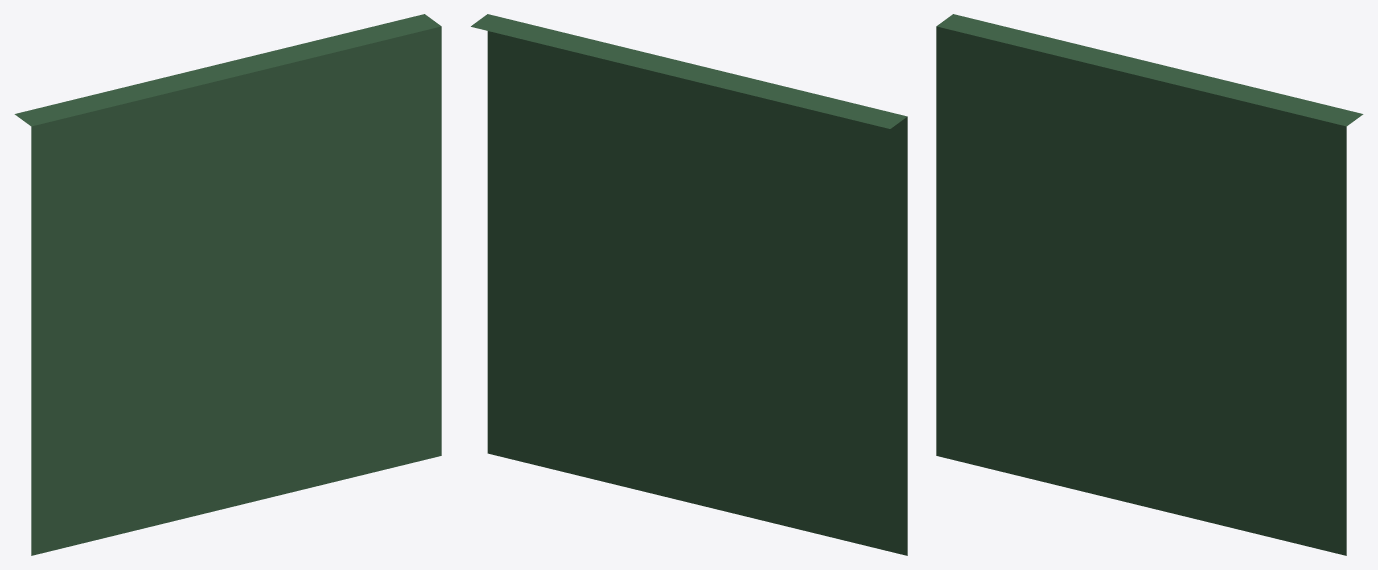
Rendered from M_Wall350Green30.fbx.
3 renders of one model, left to right at view 1: azimuth 30°, elevation 25°; view 2: azimuth 150°, elevation 25°; view 3: azimuth 330°, elevation 25°, orthographic. The views are drawn at different scales.
Parts seen in each view (by area): view 1: M_Wall350Green30; view 2: M_Wall350Green30; view 3: M_Wall350Green30.
Part boxes in pixels (x1,y1,x2,y2): M_Wall350Green30: (14,14,441,555); M_Wall350Green30: (471,14,907,555); M_Wall350Green30: (936,14,1363,555).
Bounding box in the file's own units: 350 × 25 × 350.
